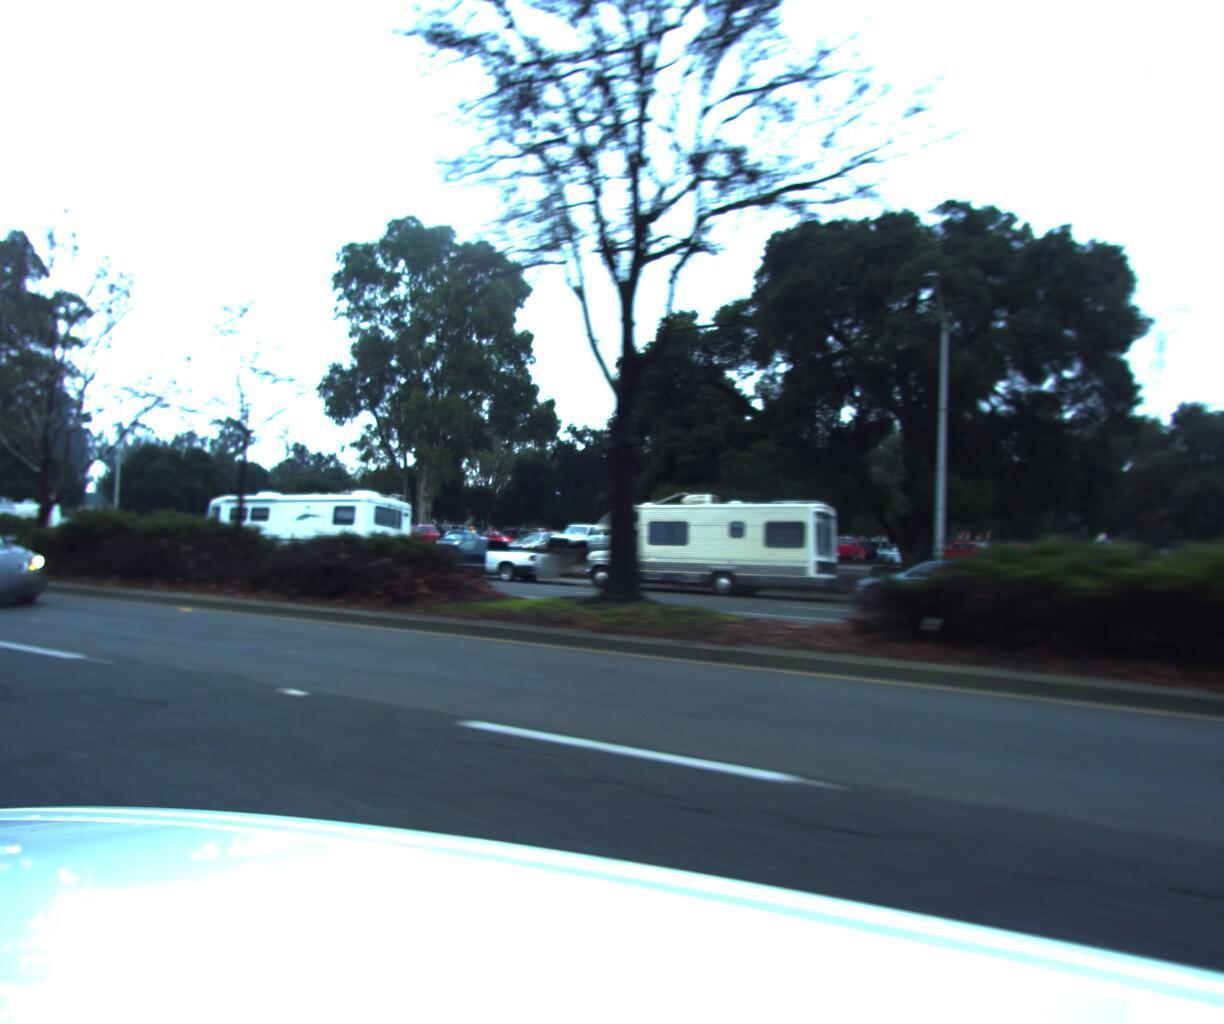car: (845, 546, 1040, 615), (419, 528, 563, 583), (0, 505, 63, 610)
other_vehicle: (582, 486, 847, 602), (190, 480, 418, 576), (0, 489, 67, 547)
